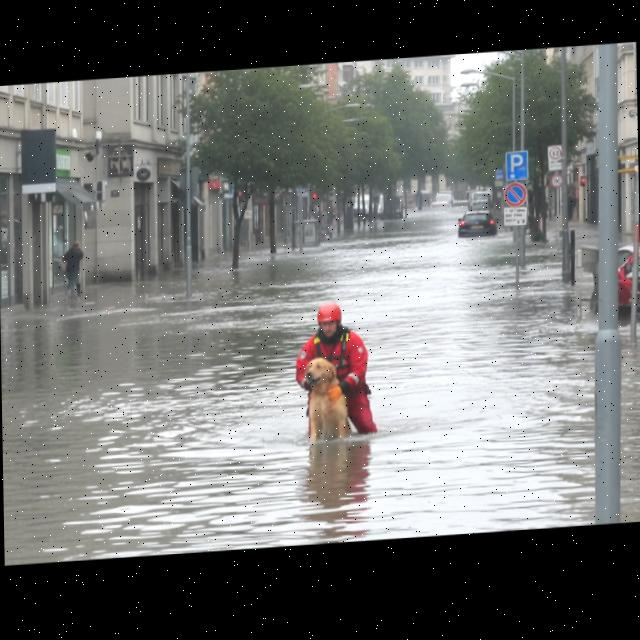civilian: (58, 231, 92, 312)
dog: (291, 353, 363, 453)
rescuer: (288, 289, 382, 451)
